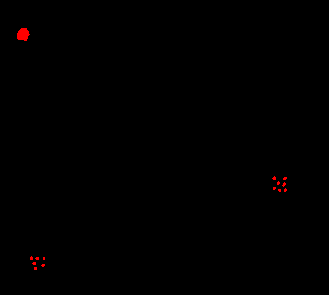Target: (17, 28, 30, 41), (282, 182, 286, 187), (272, 176, 276, 180), (283, 177, 287, 180), (277, 181, 280, 185), (284, 188, 287, 192), (30, 256, 33, 260), (35, 257, 39, 260), (32, 262, 36, 265), (41, 264, 45, 267), (273, 187, 276, 190), (278, 189, 281, 192), (34, 267, 37, 270), (43, 257, 45, 260)
